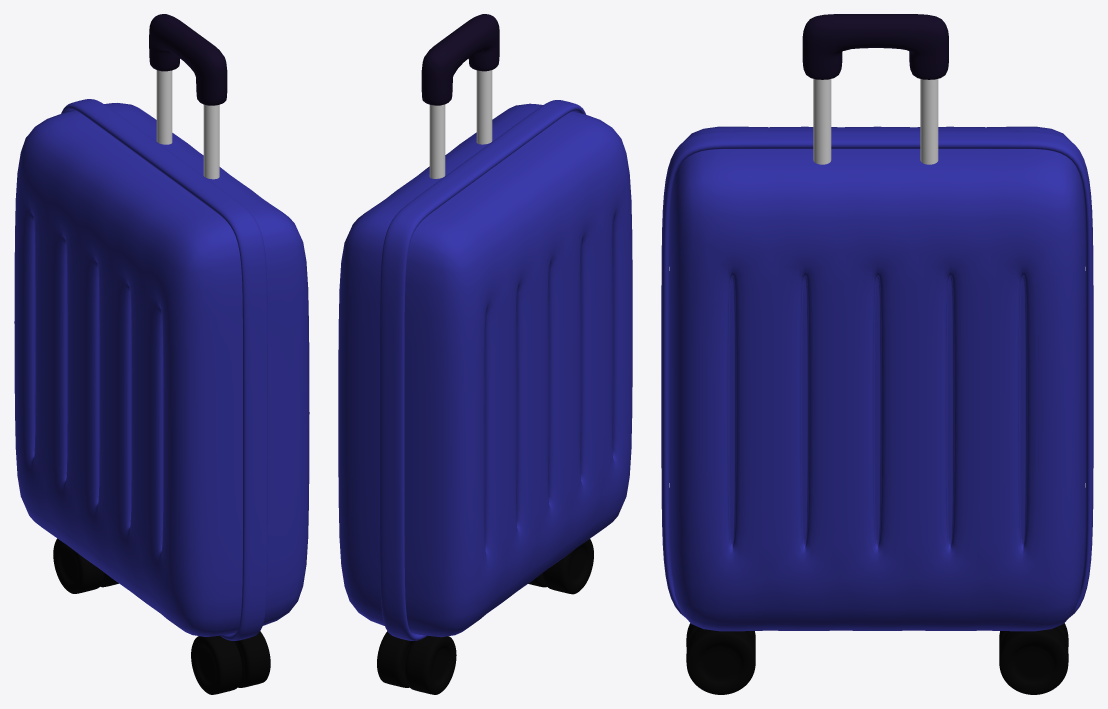
Rendered from Suitcase.glb.
3 renders of one model, left to right at view 1: azimuth 30°, elevation 25°; view 2: azimuth 150°, elevation 25°; view 3: azimuth 270°, elevation 25°, orthographic. The views are drawn at different scales.
Parts seen in each view (by area): view 1: Cube, Cube.002, Cylinder.001, Cube.001, Cylinder; view 2: Cube, Cube.002, Cylinder.001, Cube.001, Cylinder; view 3: Cube, Cube.002, Cylinder.001, Cube.001, Cylinder.
Boxes of the visible parts, x1=… form: Cube: x1=14, y1=103, x2=309, y2=636; Cube.002: x1=61, y1=99, x2=267, y2=640; Cylinder.001: x1=53, y1=538, x2=270, y2=694; Cube.001: x1=149, y1=14, x2=227, y2=105; Cylinder: x1=156, y1=70, x2=219, y2=179; Cube: x1=338, y1=103, x2=632, y2=637; Cube.002: x1=379, y1=100, x2=585, y2=640; Cylinder.001: x1=377, y1=539, x2=593, y2=694; Cube.001: x1=421, y1=14, x2=499, y2=105; Cylinder: x1=429, y1=70, x2=492, y2=178; Cube: x1=669, y1=126, x2=1085, y2=631; Cube.002: x1=661, y1=130, x2=1093, y2=616; Cylinder.001: x1=686, y1=623, x2=1068, y2=694; Cube.001: x1=802, y1=14, x2=948, y2=79; Cylinder: x1=813, y1=79, x2=938, y2=164.
Bounding box in the file's own units: 0.8654 × 3.61 × 2.08.
